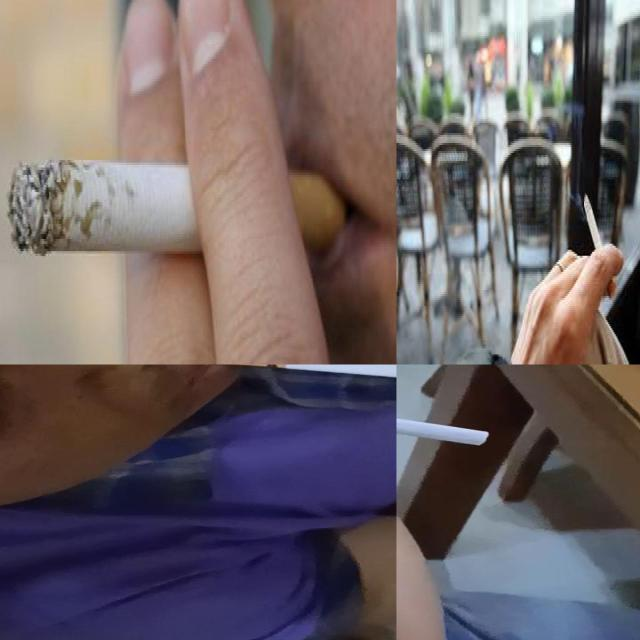smoking: (6, 156, 346, 258), (397, 400, 495, 446), (206, 364, 396, 386), (584, 192, 616, 300)
